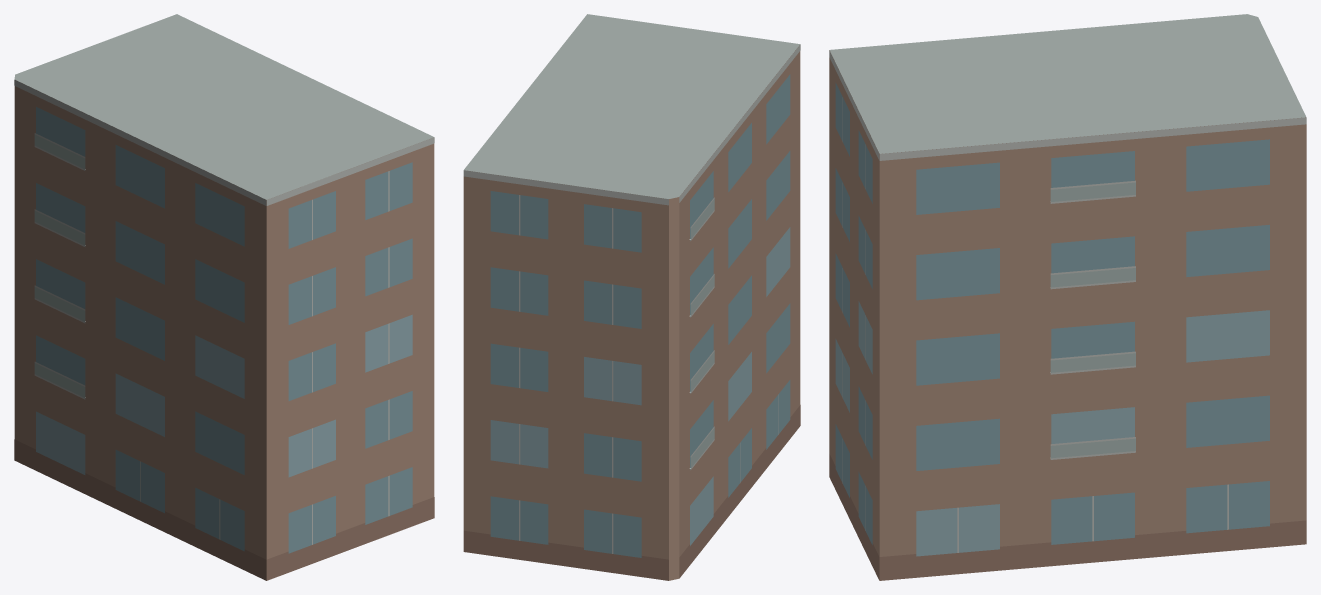
File: survey-upis-32586040.glb
3 views of the same model, side by side, from view 1: azimuth 30°, elevation 25°; view 2: azimuth 150°, elevation 25°; view 3: azimuth 270°, elevation 25° (orthographic). The views are drawn at different scales.
Visible parts, largest first — view 1: survey-upis-32586040.tmp; view 2: survey-upis-32586040.tmp; view 3: survey-upis-32586040.tmp.
Boxes of the visible parts, x1,y1,x2,y2 form: survey-upis-32586040.tmp: (14, 14, 434, 580); survey-upis-32586040.tmp: (463, 14, 800, 580); survey-upis-32586040.tmp: (829, 14, 1306, 580).
Bounding box in the file's own units: 10.41 × 14.8 × 15.
